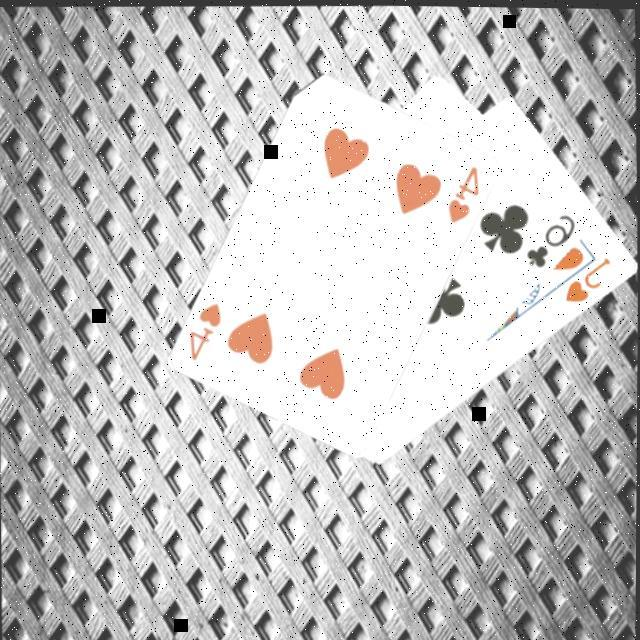4H: (186, 296, 227, 360), (445, 158, 484, 223)
6C: (524, 206, 580, 268)
JH: (562, 248, 616, 304)
